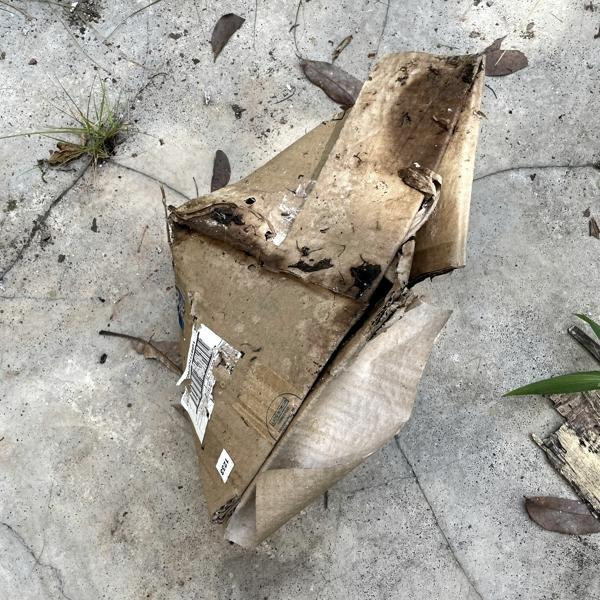Organik: (133, 43, 500, 543)
